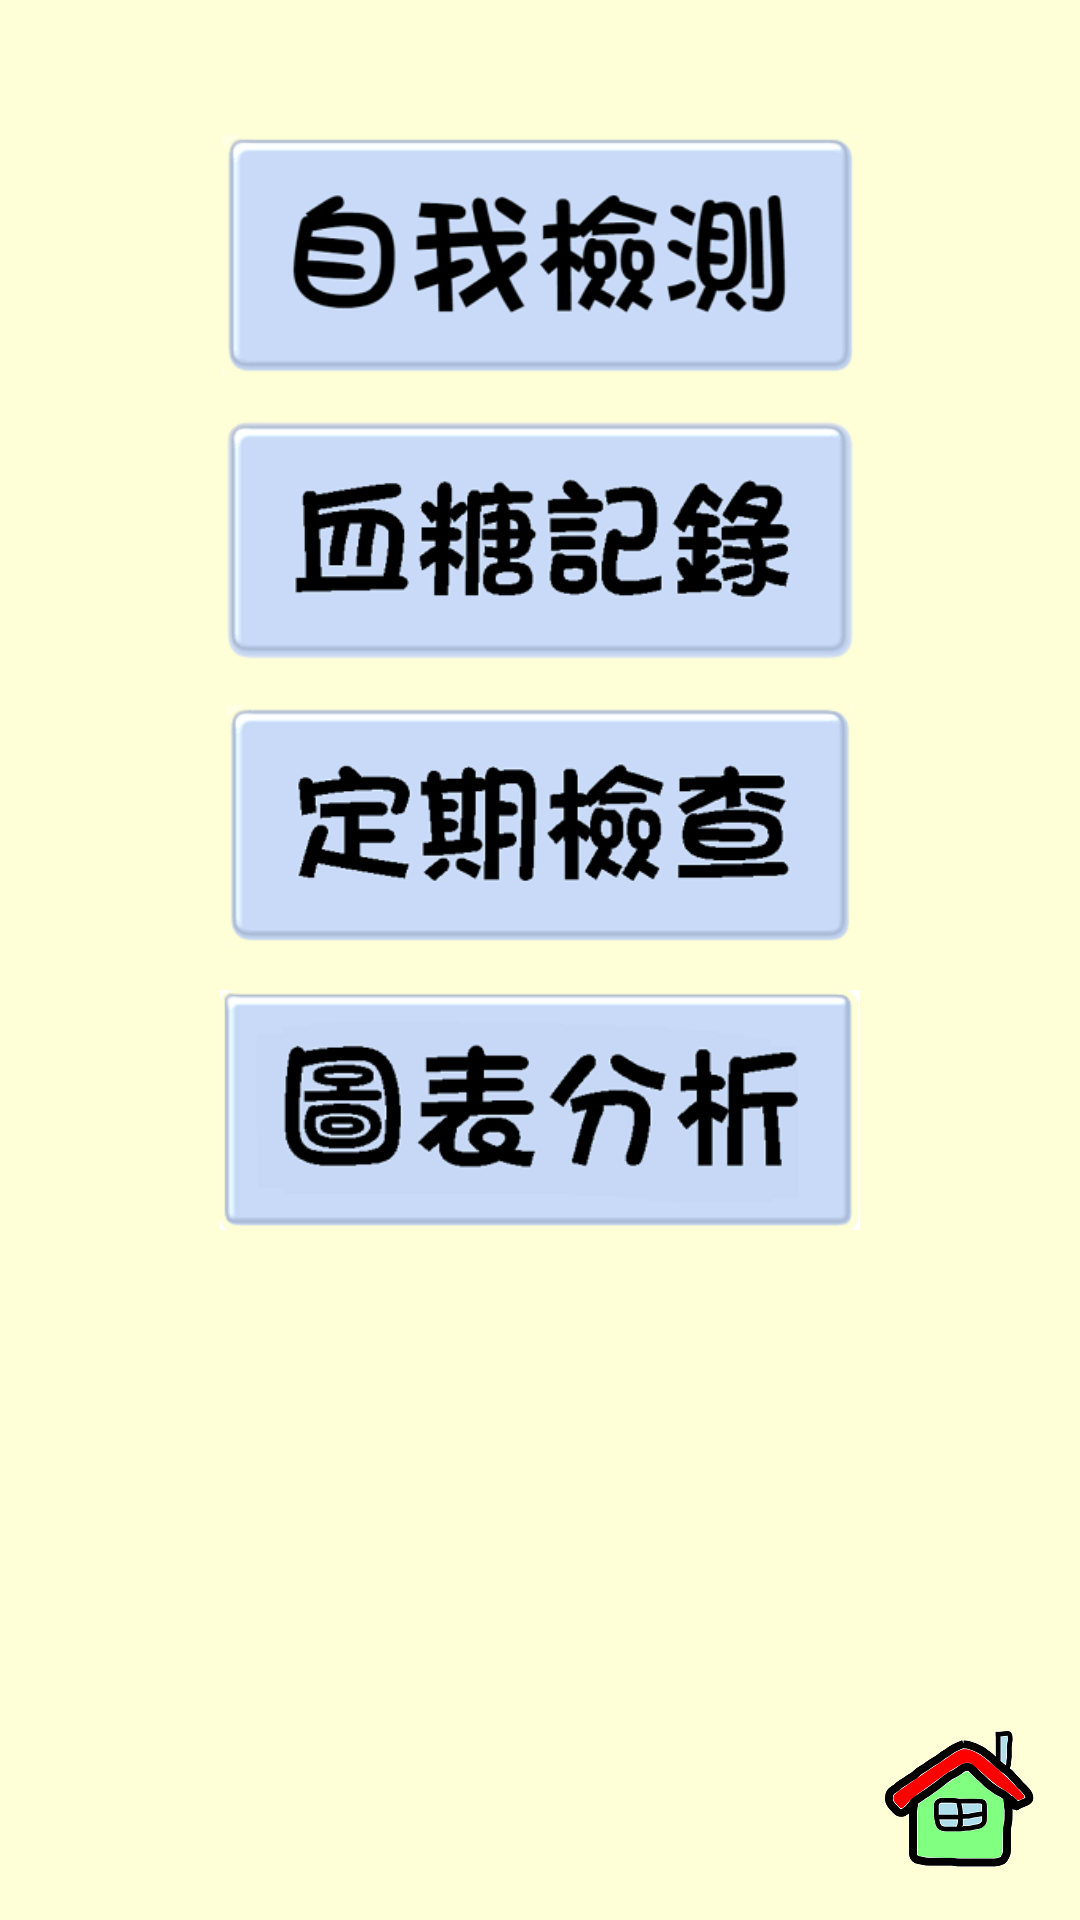

Point at icon controls on the screen. Image size 1080px x 1920px, points as point (x, y).
home: point (959, 1799)
